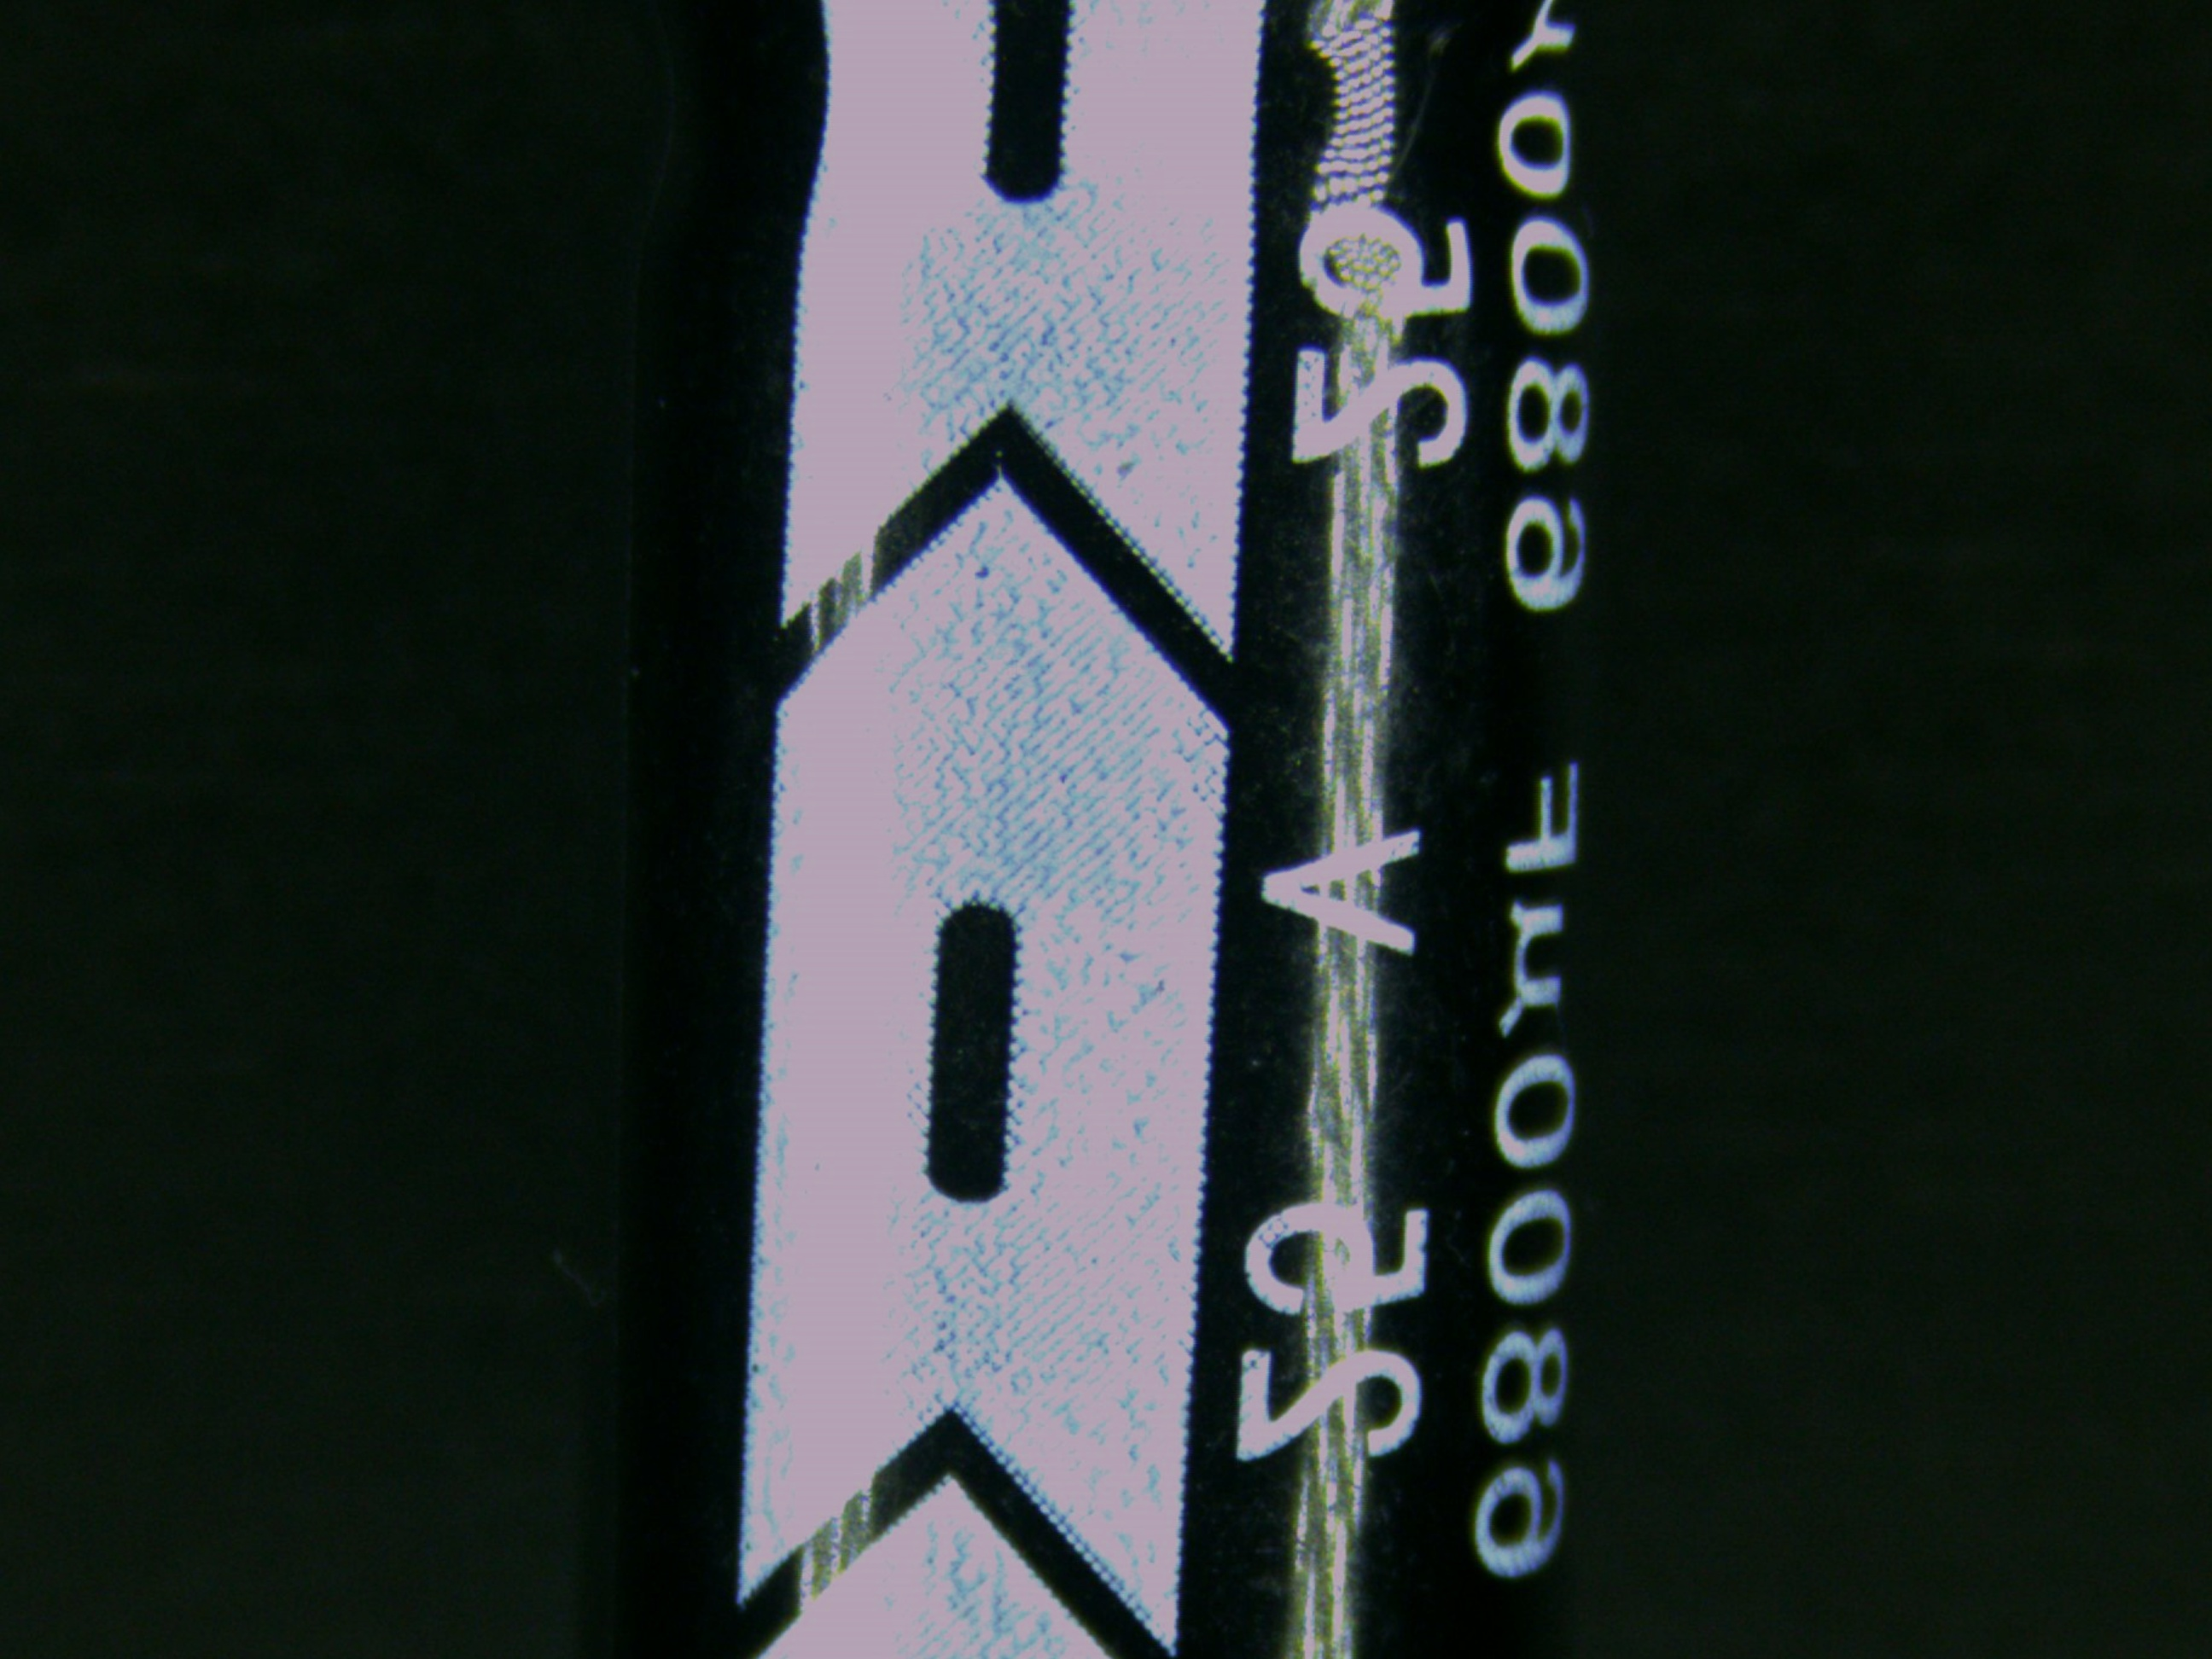c3: (596, 0, 1618, 1659)
